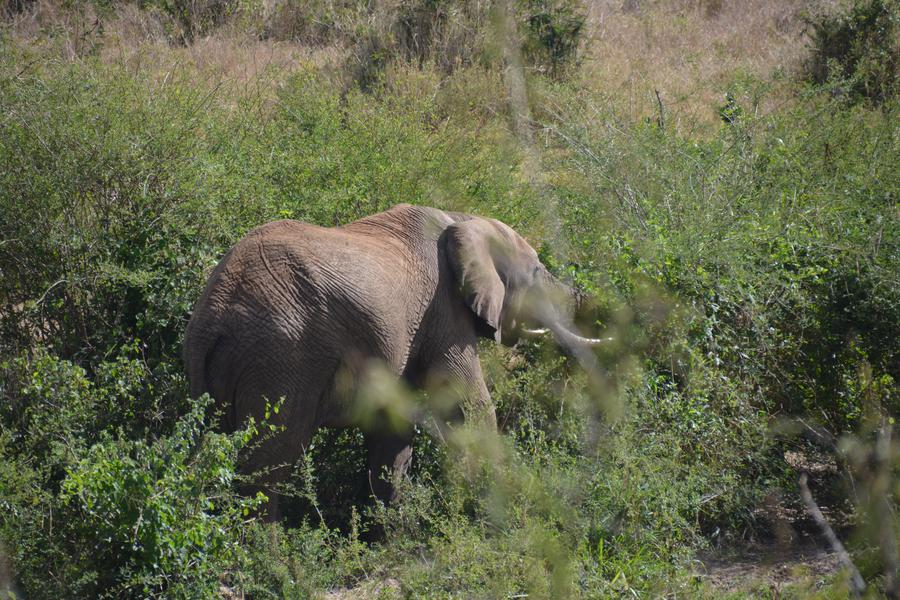elephant: (185, 206, 556, 454)
